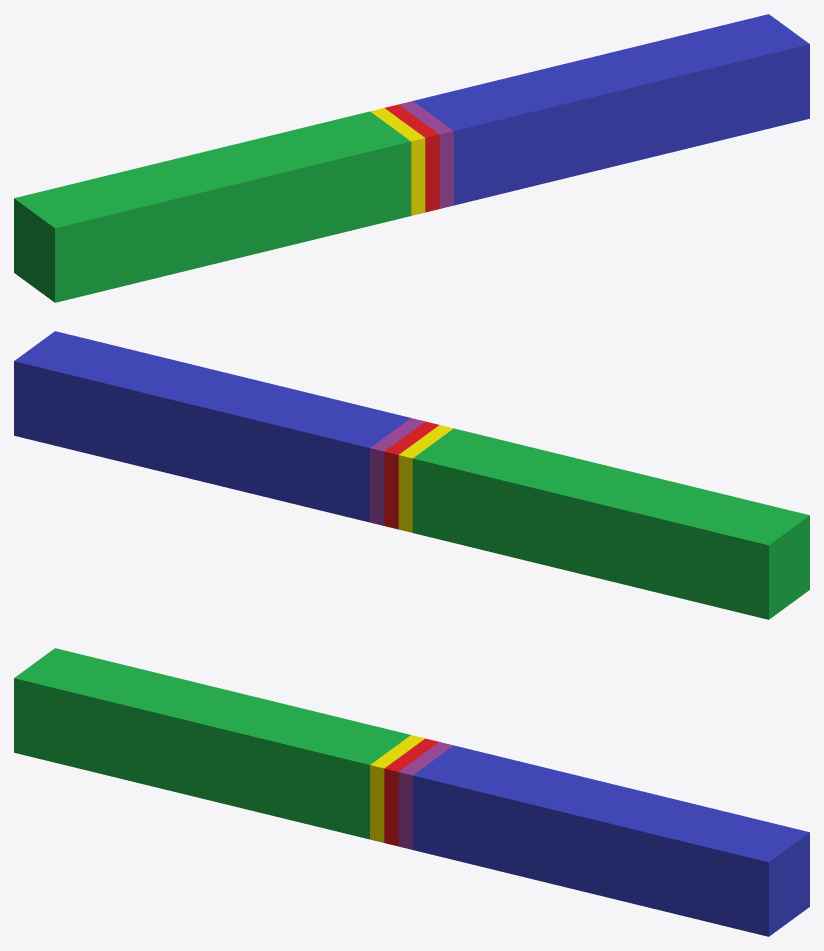
Rendered from simplebone.obj.
3 renders of one model, top to bottom at view 1: azimuth 30°, elevation 25°; view 2: azimuth 150°, elevation 25°; view 3: azimuth 330°, elevation 25°, orthographic.
Visible parts, largest first — view 1: Object.1, Object.5, Object.2, Object.3, Object.4; view 2: Object.1, Object.5, Object.2, Object.3, Object.4; view 3: Object.5, Object.1, Object.3, Object.4, Object.2.
Part boxes in pixels (x1=…): Object.1: x1=14, y1=111, x2=411, y2=302; Object.5: x1=413, y1=14, x2=809, y2=205; Object.2: x1=370, y1=108, x2=425, y2=215; Object.3: x1=385, y1=104, x2=439, y2=212; Object.4: x1=399, y1=101, x2=453, y2=208; Object.1: x1=412, y1=428, x2=809, y2=619; Object.5: x1=14, y1=331, x2=410, y2=522; Object.2: x1=398, y1=425, x2=453, y2=532; Object.3: x1=384, y1=421, x2=438, y2=529; Object.4: x1=370, y1=418, x2=424, y2=525; Object.5: x1=412, y1=745, x2=809, y2=936; Object.1: x1=14, y1=648, x2=410, y2=839; Object.3: x1=384, y1=738, x2=438, y2=846; Object.4: x1=398, y1=742, x2=453, y2=849; Object.2: x1=370, y1=735, x2=424, y2=842.
Bounding box in the file's own units: 424 × 40 × 40.
